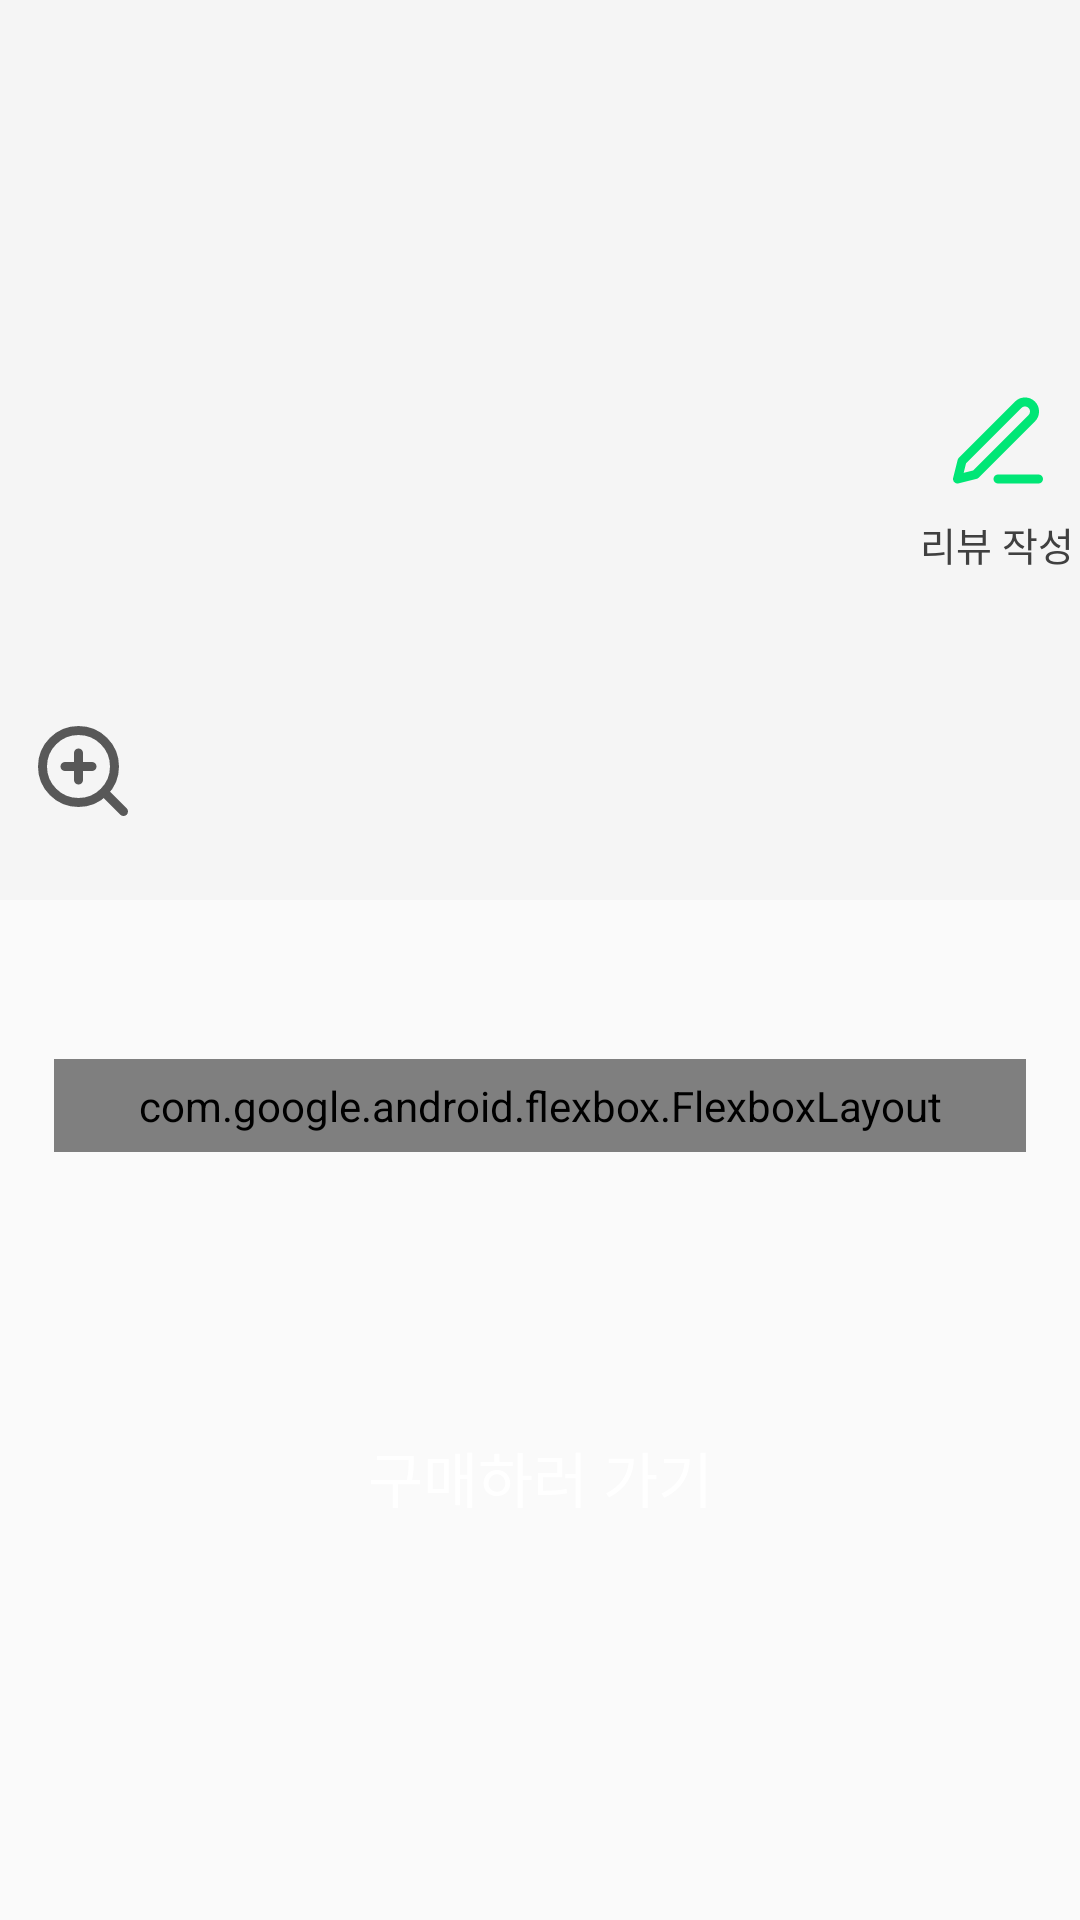

Locate icon controls on the screen. Image size 1080x1920, boxes as Rect(x1, y1, x2, y2).
edit: Rect(953, 397, 1043, 484)
zoom in: Rect(38, 726, 128, 816)
